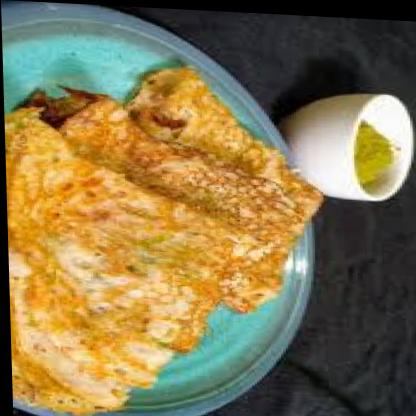dosa: (2, 106, 278, 416), (11, 84, 304, 356), (122, 61, 324, 314)
